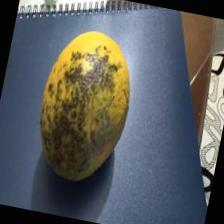Orange Rotten: (20, 10, 150, 199)
